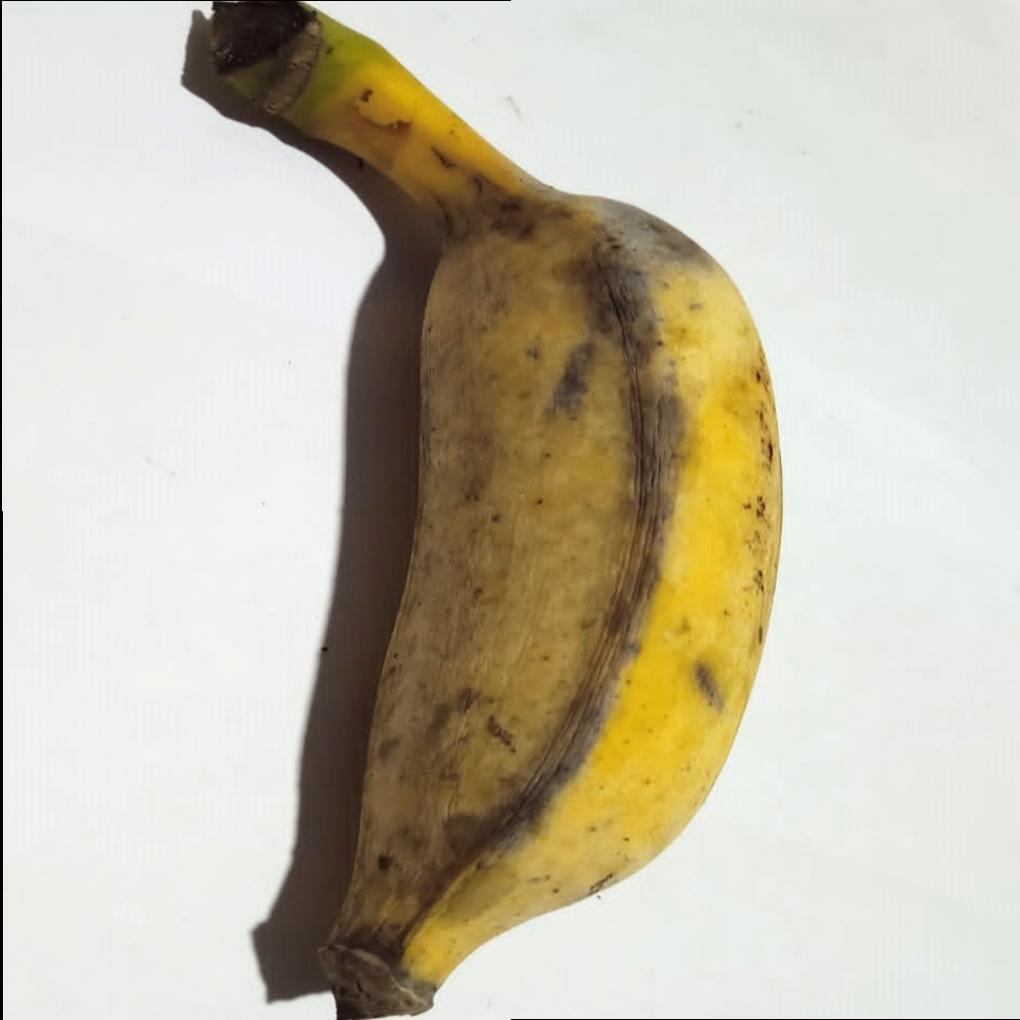Banana Ripe: (205, 1, 806, 1020)
